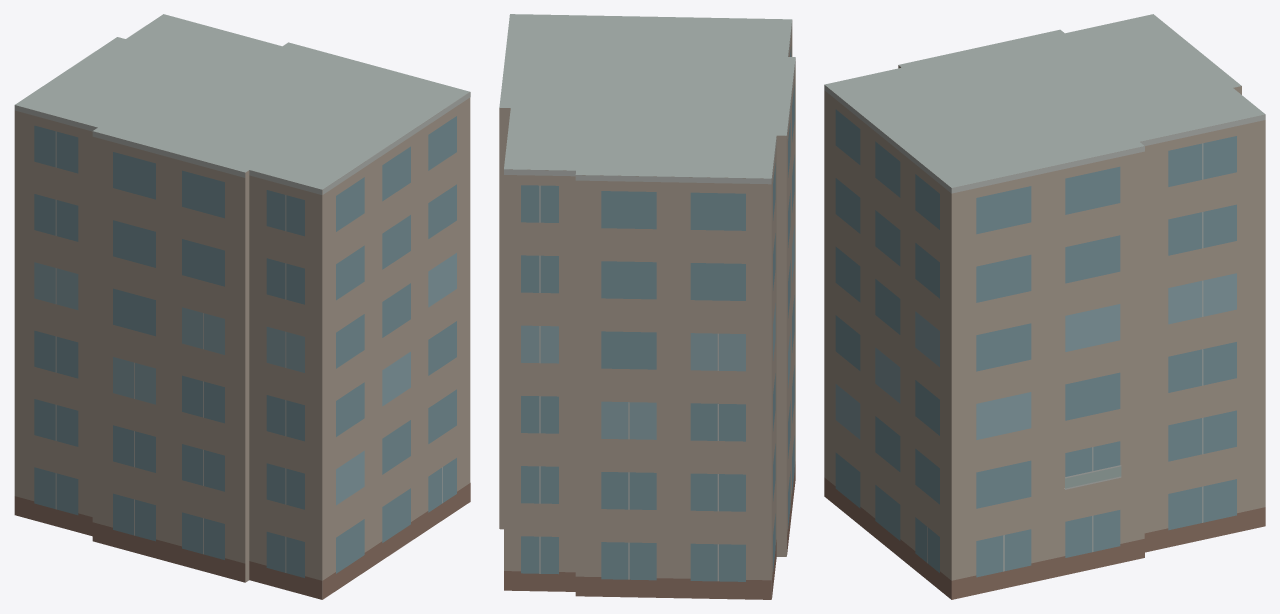
File: survey-upis-33009225.glb
3 views of the same model, side by side, from view 1: azimuth 30°, elevation 25°; view 2: azimuth 150°, elevation 25°; view 3: azimuth 270°, elevation 25° (orthographic). The views are drawn at different scales.
Visible parts, largest first — view 1: survey-upis-33009225.tmp; view 2: survey-upis-33009225.tmp; view 3: survey-upis-33009225.tmp.
Part boxes in pixels (x1,y1,x2,y2): survey-upis-33009225.tmp: (14,14,470,599); survey-upis-33009225.tmp: (499,14,795,599); survey-upis-33009225.tmp: (824,14,1265,599).
Bounding box in the file's own units: 16.6 × 18.3 × 17.79.
